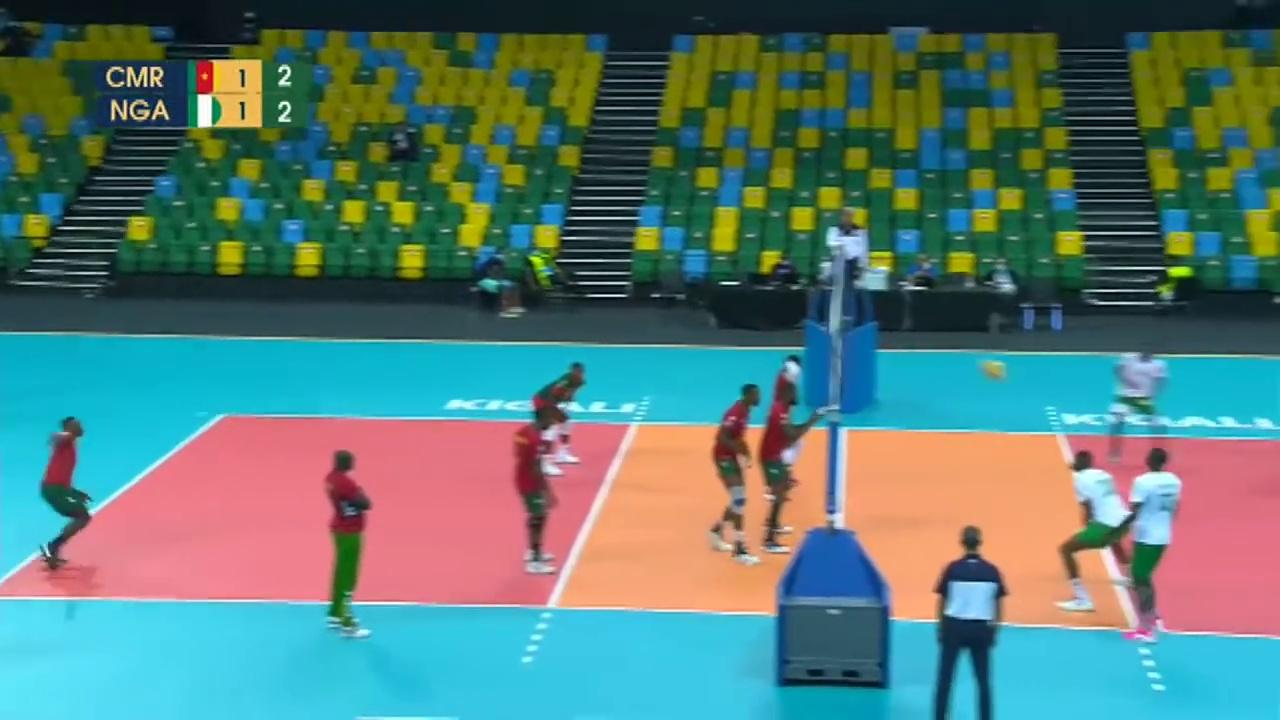player: (1120, 451, 1183, 647), (1055, 451, 1130, 615), (511, 407, 566, 583), (710, 377, 759, 571), (33, 420, 98, 566), (527, 355, 595, 475), (764, 348, 814, 496), (1113, 339, 1172, 455), (769, 384, 799, 559)
refree: (927, 529, 1011, 718), (824, 209, 872, 306)
